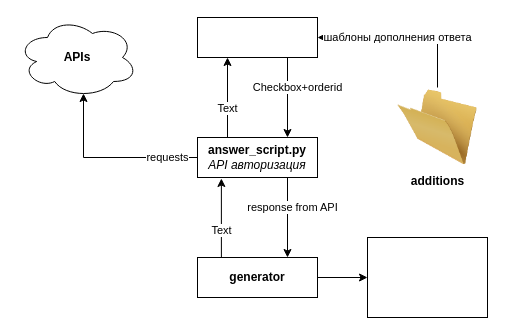
Some shapes in this 505 by 335 pixel diagram are drawn without their labels. The centre of each missing label's shape, as x and y in pixels:
GUI.py: the point at 257,37
tamplate файлы txt с шаблонами в формате jinja2: the point at 427,277
